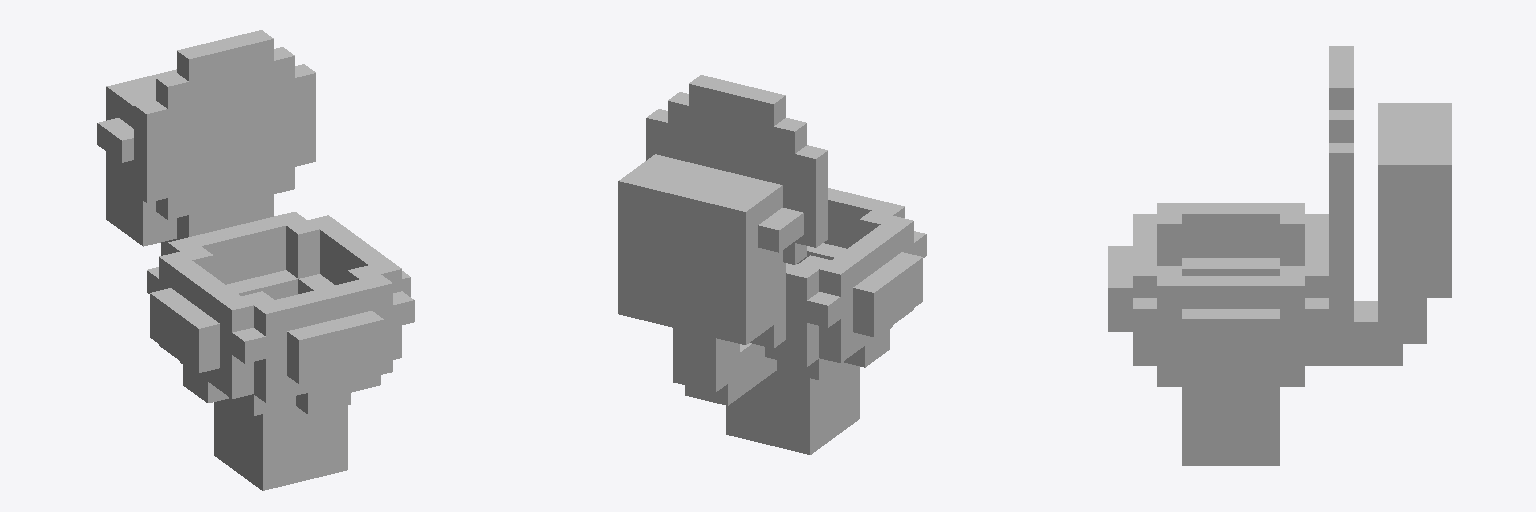
File: Toilet_Gold.obj
3 renders of one model, left to right at view 1: azimuth 30°, elevation 25°; view 2: azimuth 150°, elevation 25°; view 3: azimuth 270°, elevation 25°, orthographic.
Parts seen in each view (by area): view 1: golden_toilet; view 2: golden_toilet; view 3: golden_toilet.
Boxes of the visible parts, x1=… form: golden_toilet: x1=97, y1=30, x2=414, y2=490; golden_toilet: x1=618, y1=75, x2=926, y2=454; golden_toilet: x1=1108, y1=46, x2=1451, y2=465.
Bounding box in the file's own units: 10 × 17 × 14.